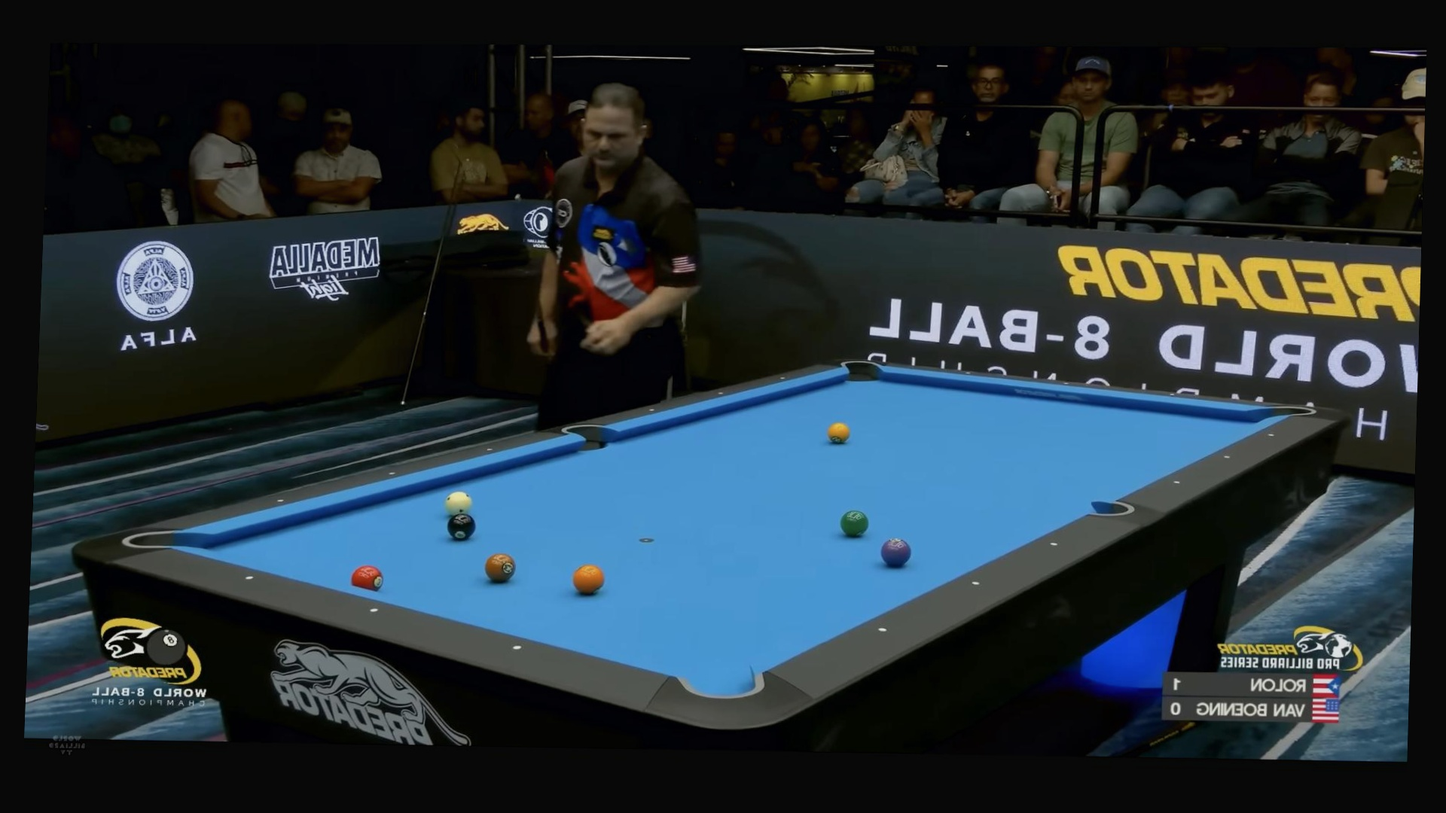Black: (1048, 539, 1060, 550), (511, 642, 523, 652), (275, 495, 287, 505), (877, 625, 889, 635), (970, 578, 982, 588), (368, 606, 380, 615), (243, 573, 254, 582), (388, 470, 396, 477), (1168, 391, 1176, 398), (1063, 380, 1071, 387), (964, 369, 972, 376), (486, 446, 493, 453), (1173, 480, 1180, 486), (1223, 454, 1230, 460), (780, 375, 786, 381), (1268, 432, 1274, 438), (649, 408, 655, 413), (718, 391, 724, 396)
Cue: (572, 564, 606, 595), (484, 553, 517, 583), (350, 565, 385, 592), (880, 538, 912, 567), (840, 510, 869, 538), (828, 422, 851, 444)
Solid: (446, 513, 477, 539)
Stripe: (444, 491, 473, 516)
